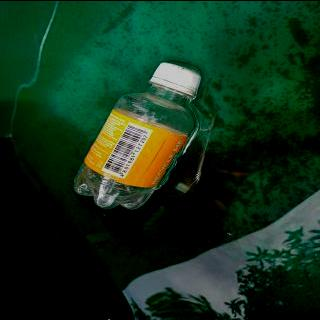bottle: (71, 60, 204, 208)
